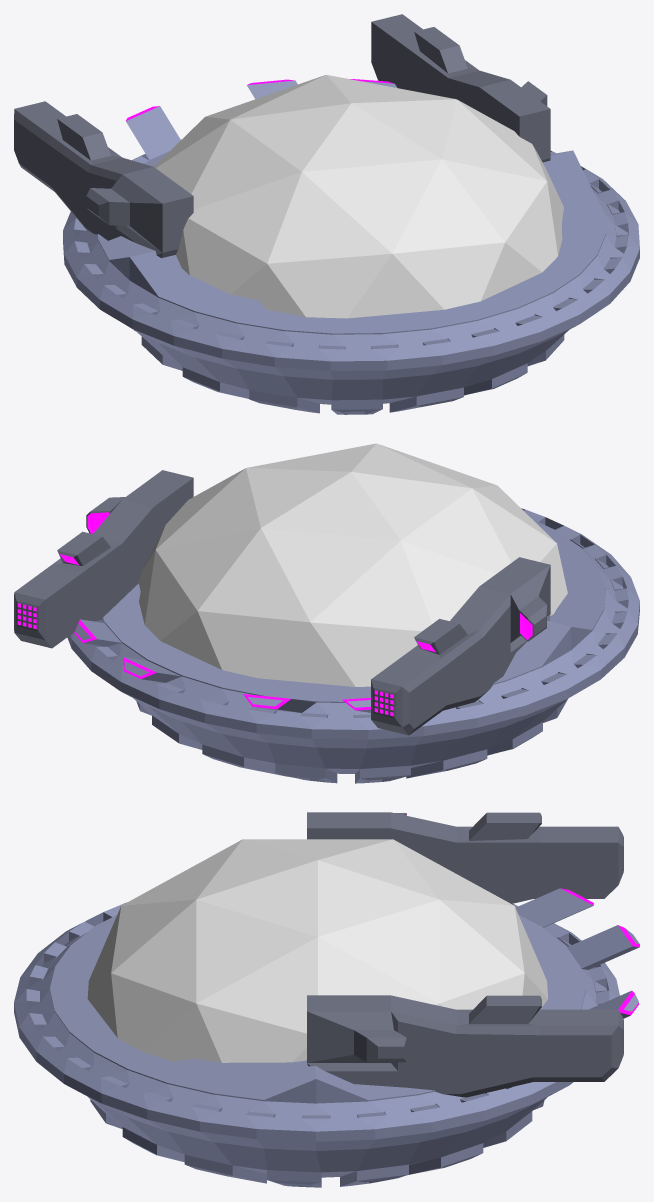
The model's file is Ufo.fbx.
The picture shows the model from 3 angles, top to bottom: view 1: azimuth 30°, elevation 25°; view 2: azimuth 150°, elevation 25°; view 3: azimuth 270°, elevation 25°; orthographic projection. The views are drawn at different scales.
Parts seen in each view (by area): view 1: Icosphere, Cylinder, Cube; view 2: Icosphere, Cylinder, Cube; view 3: Icosphere, Cylinder, Cube.
Part boxes in pixels (bbox=[...]): Icosphere: bbox=[154, 74, 563, 318]; Cylinder: bbox=[63, 79, 639, 414]; Cube: bbox=[14, 14, 550, 258]; Icosphere: bbox=[138, 443, 567, 686]; Cylinder: bbox=[67, 508, 639, 783]; Cube: bbox=[14, 470, 550, 735]; Icosphere: bbox=[87, 839, 547, 1062]; Cylinder: bbox=[14, 888, 639, 1187]; Cube: bbox=[307, 812, 623, 1097].
Size of the model in its own units: 680 by 330 by 701.
